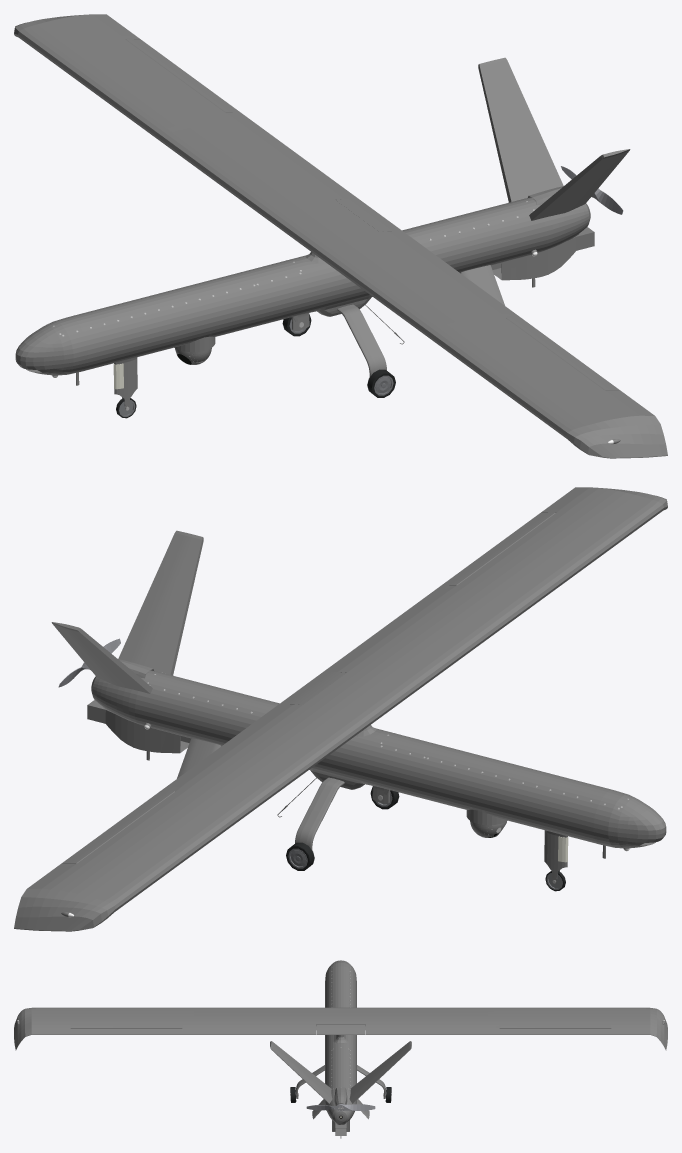
Rendered from hermes-450-mhpt-uas.glb.
3 renders of one model, top to bottom at view 1: azimuth 30°, elevation 25°; view 2: azimuth 150°, elevation 25°; view 3: azimuth 270°, elevation 25°, orthographic. The views are drawn at different scales.
Parts seen in each view (by area): view 1: body_Hermes_450_body_mat_0; view 2: body_Hermes_450_body_mat_0; view 3: body_Hermes_450_body_mat_0.
Boxes of the visible parts, <box> form: body_Hermes_450_body_mat_0: <box>14,14,667,458</box>; body_Hermes_450_body_mat_0: <box>14,487,667,931</box>; body_Hermes_450_body_mat_0: <box>14,960,667,1138</box>.
Bounding box in the file's own units: 607 × 208 × 1052.
1 material, 1 textured.
